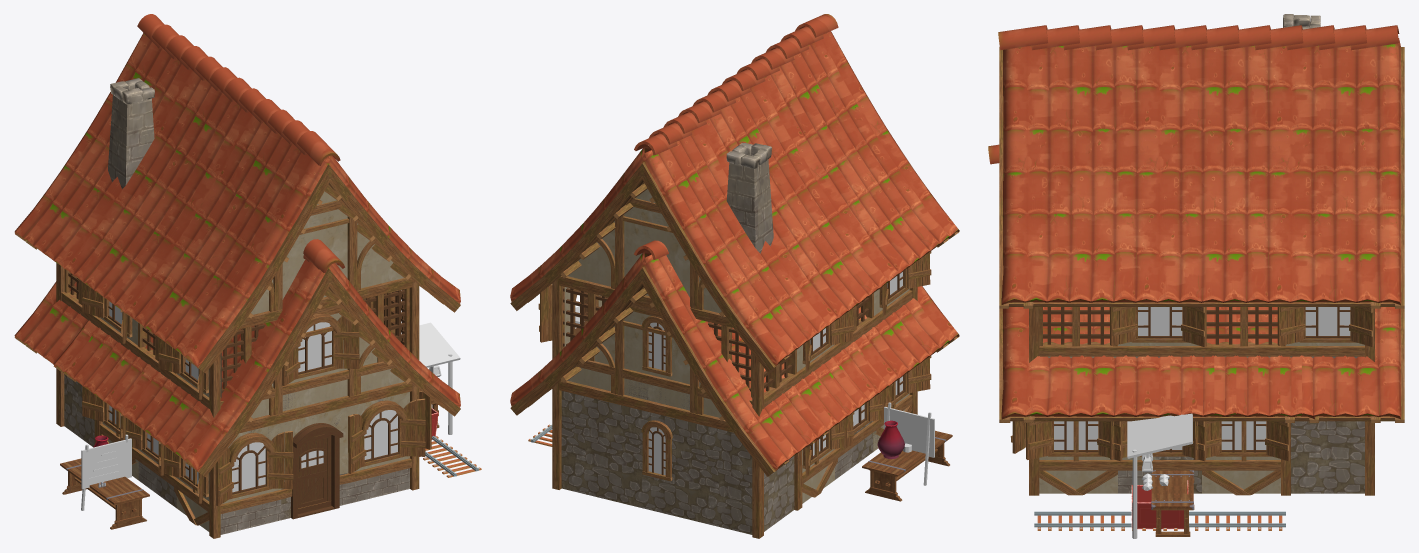
Rendered from prospector_cottage.gltf.
3 views of the same model, side by side, from view 1: azimuth 30°, elevation 25°; view 2: azimuth 150°, elevation 25°; view 3: azimuth 270°, elevation 25° (orthographic). The views are drawn at different scales.
Parts seen in each view (by area): view 1: T3_KitRoofRoundTiles6x8100, T2_KitRoofRoundTiles6x8054, T3_KitRoofFrontBrick6101, T1_KitRoofFrontBrick6044, T1_KitRoofRoundTiles6x6043, T3_KitPropChimney116, T1_KitWallPlasterWindowWideRound009, T1_KitWallPlasterWindowWideRound001, T1_KitDoor1Round007, AO-assay_KitTableLarge001, T1_KitWindowShuttersWideRoundOpen012, T1_KitWindowShuttersWideRoundOpen004 (+31 smaller); view 2: T3_KitRoofRoundTiles6x8100, T2_KitRoofRoundTiles6x8054, T1_KitRoofRoundTiles6x6043, T2_KitRoofFrontBrick6056, T3_KitRoofFrontBrick6102, T2_KitWallUnevenBrickStraight013, T2_KitWallUnevenBrickStraight017, T2_KitWallUnevenBrickWindowThinRound014, T3_KitPropChimney116, AO-assay_KitTableLarge001, T3_KitWallPlasterWoodGrid060, T2_KitWallUnevenBrickStraight018 (+25 smaller); view 3: T3_KitRoofRoundTiles6x8100, T2_KitRoofRoundTiles6x8054, T1_KitRoofRoundTiles6x6043, T2_KitWallUnevenBrickStraight037, T1_KitWallPlasterStraight029, T1_KitWallPlasterStraight024, T3_KitWallPlasterWoodGrid080, T3_KitWallPlasterWoodGrid075, AO-lamproom_LeanRoof003, AO-lamproom_KitWorkbench004, T3_KitWindowShuttersWideRoundOpen084, T3_KitWindowShuttersWideRoundOpen079 (+20 smaller).
Part boxes in pixels (left/top/right/bottom): T3_KitRoofRoundTiles6x8100: left=14, top=14, right=460, bottom=373; T2_KitRoofRoundTiles6x8054: left=14, top=253, right=460, bottom=476; T3_KitRoofFrontBrick6101: left=239, top=186, right=419, bottom=329; T1_KitRoofFrontBrick6044: left=239, top=290, right=412, bottom=433; T1_KitRoofRoundTiles6x6043: left=53, top=239, right=425, bottom=472; T3_KitPropChimney116: left=108, top=78, right=154, bottom=188; T1_KitWallPlasterWindowWideRound009: left=347, top=392, right=411, bottom=503; T1_KitWallPlasterWindowWideRound001: left=220, top=423, right=282, bottom=534; T1_KitDoor1Round007: left=297, top=434, right=331, bottom=513; AO-assay_KitTableLarge001: left=60, top=458, right=149, bottom=529; T1_KitWindowShuttersWideRoundOpen012: left=348, top=398, right=425, bottom=473; T1_KitWindowShuttersWideRoundOpen004: left=215, top=431, right=293, bottom=505; T3_KitRoofRoundTiles6x8100: left=510, top=14, right=959, bottom=372; T2_KitRoofRoundTiles6x8054: left=510, top=240, right=959, bottom=476; T1_KitRoofRoundTiles6x6043: left=781, top=286, right=958, bottom=447; T2_KitRoofFrontBrick6056: left=559, top=288, right=733, bottom=432; T3_KitRoofFrontBrick6102: left=556, top=183, right=733, bottom=327; T2_KitWallUnevenBrickStraight013: left=561, top=391, right=624, bottom=503; T2_KitWallUnevenBrickStraight017: left=691, top=422, right=752, bottom=534; T2_KitWallUnevenBrickWindowThinRound014: left=624, top=406, right=691, bottom=519; T3_KitPropChimney116: left=726, top=142, right=773, bottom=253; AO-assay_KitTableLarge001: left=862, top=430, right=952, bottom=501; T3_KitWallPlasterWoodGrid060: left=561, top=286, right=624, bottom=394; T2_KitWallUnevenBrickStraight018: left=764, top=456, right=794, bottom=531; T3_KitRoofRoundTiles6x8100: left=998, top=25, right=1404, bottom=308; T2_KitRoofRoundTiles6x8054: left=999, top=307, right=1404, bottom=422; T1_KitRoofRoundTiles6x6043: left=988, top=144, right=1318, bottom=422; T2_KitWallUnevenBrickStraight037: left=1291, top=421, right=1364, bottom=493; T1_KitWallPlasterStraight029: left=1202, top=421, right=1280, bottom=495; T1_KitWallPlasterStraight024: left=1039, top=421, right=1117, bottom=495; T3_KitWallPlasterWoodGrid080: left=1202, top=307, right=1285, bottom=357; T3_KitWallPlasterWoodGrid075: left=1039, top=307, right=1117, bottom=357; AO-lamproom_LeanRoof003: left=1127, top=413, right=1192, bottom=458; AO-lamproom_KitWorkbench004: left=1151, top=470, right=1194, bottom=536; T3_KitWindowShuttersWideRoundOpen084: left=1277, top=307, right=1374, bottom=346; T3_KitWindowShuttersWideRoundOpen079: left=1109, top=307, right=1206, bottom=346.
Size of the model in its own units: 11.05 by 10.94 by 9.92.
70 materials, 70 textured.
